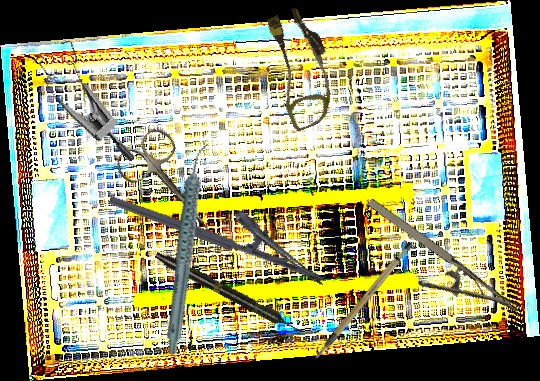Cannula: (252, 3, 350, 133)
Handpiece: (125, 141, 252, 357), (152, 248, 302, 337)
Iris Scissors: (111, 122, 232, 252)
Needle Holder: (108, 165, 337, 287), (348, 193, 521, 343)
Scalpel Handle: (297, 240, 427, 360)
Speculum: (16, 30, 169, 163)
